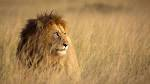lion: (19, 10, 77, 81)
